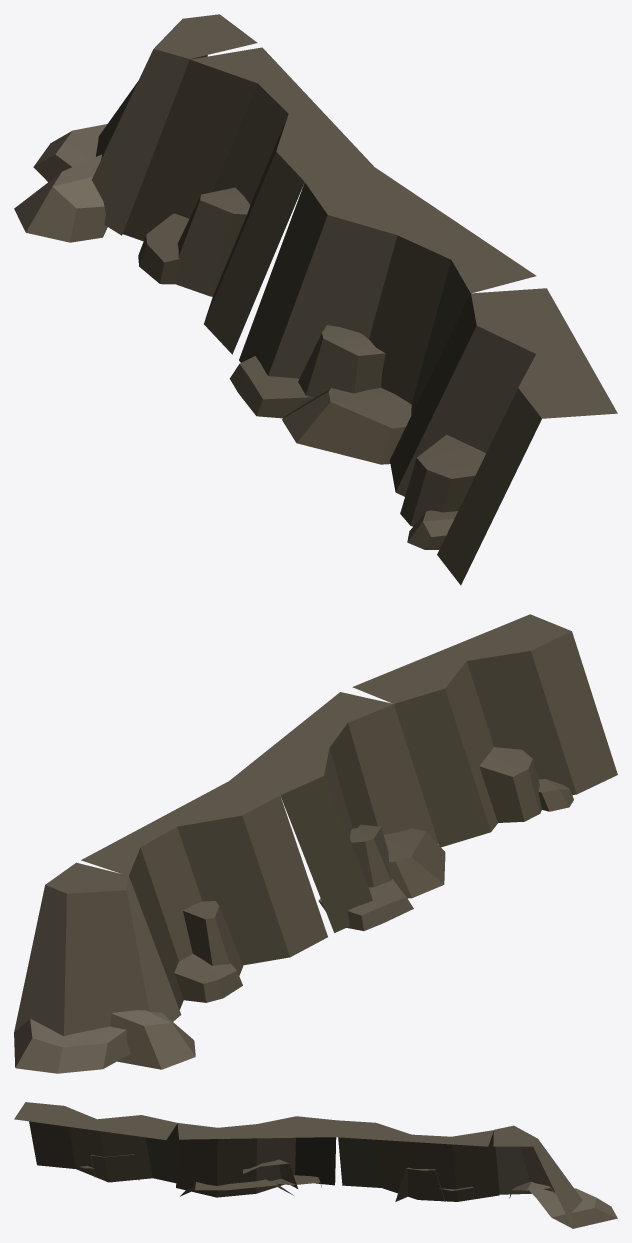
The model's file is Mountain30.fbx.
3 renders of one model, top to bottom at view 1: azimuth 30°, elevation 25°; view 2: azimuth 150°, elevation 25°; view 3: azimuth 270°, elevation 25°, orthographic. The views are drawn at different scales.
Parts seen in each view (by area): view 1: Mountain30; view 2: Mountain30; view 3: Mountain30.
Boxes of the visible parts, x1=… form: Mountain30: x1=14, y1=14, x2=617, y2=585; Mountain30: x1=14, y1=614, x2=617, y2=1073; Mountain30: x1=14, y1=1102, x2=617, y2=1228.
Bounding box in the file's own units: 18.43 × 12.33 × 75.91.
